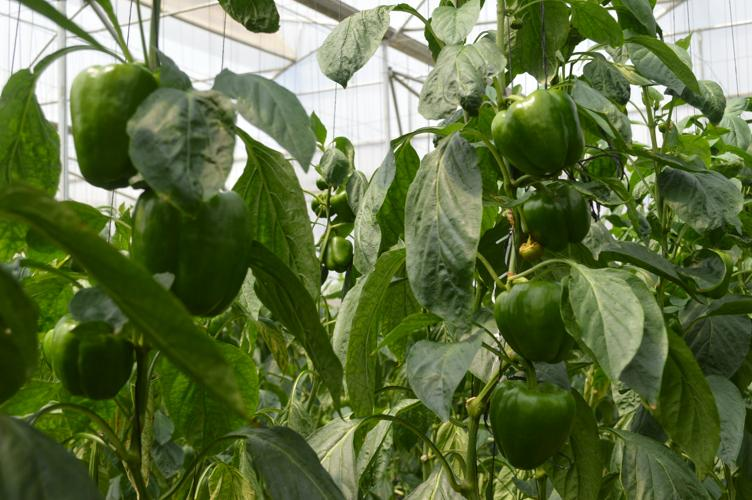BellPepper: (130, 189, 248, 317), (66, 64, 156, 182), (492, 91, 589, 179), (485, 382, 576, 472), (491, 281, 574, 365), (53, 315, 131, 397), (519, 186, 591, 251)
